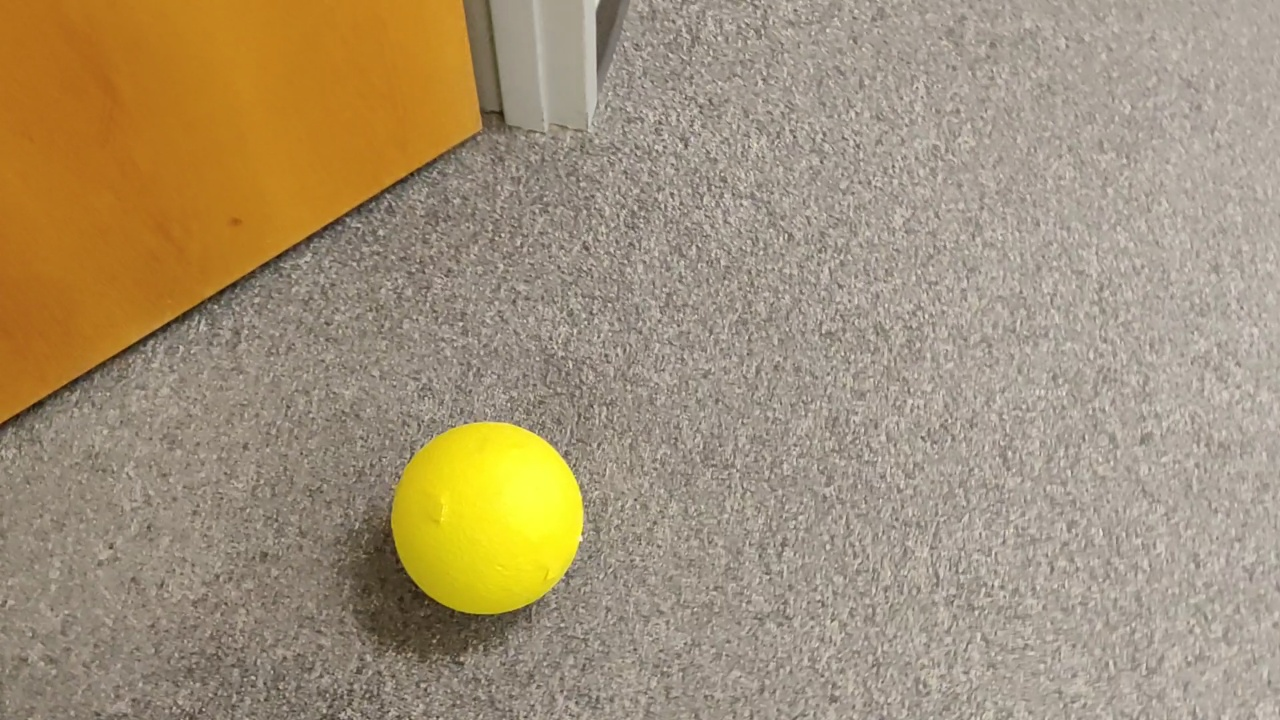Ball: (389, 419, 587, 610)
